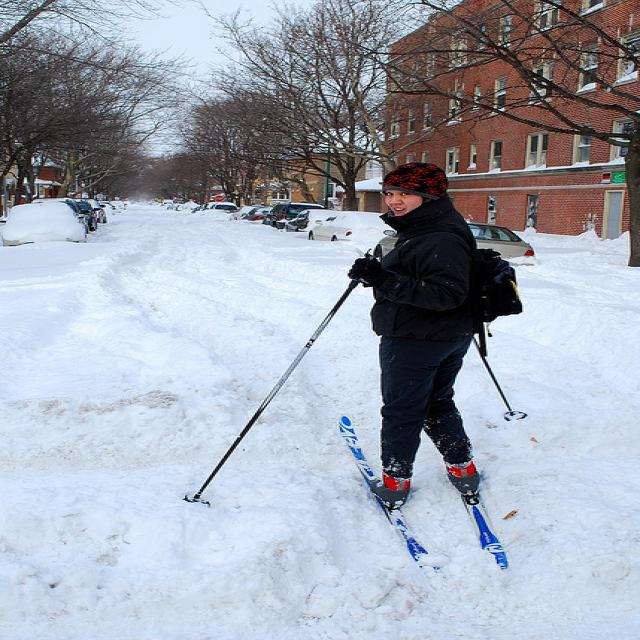Vehicle: (2, 202, 85, 245), (306, 211, 392, 242), (476, 227, 551, 261), (32, 198, 94, 230), (261, 202, 326, 230), (285, 210, 337, 232), (73, 198, 99, 229), (235, 204, 274, 222), (85, 199, 107, 224), (207, 201, 241, 213)
